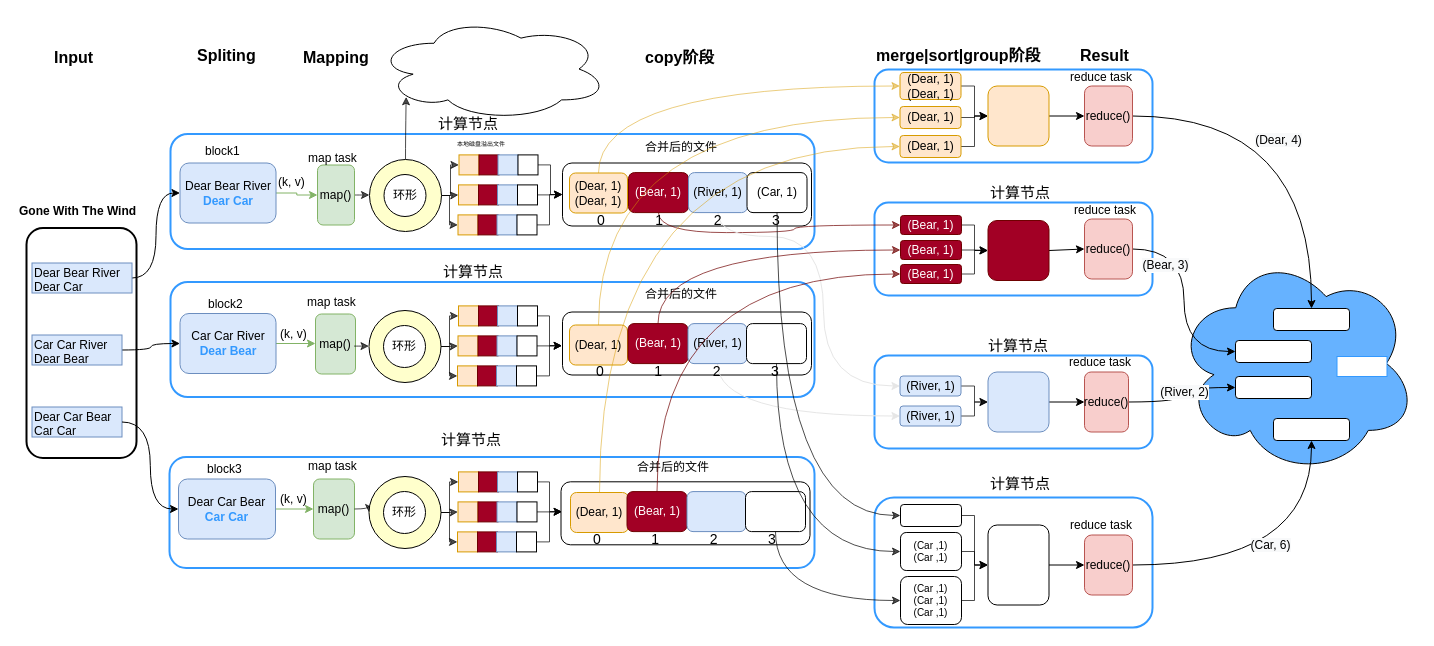
Image size: 1434x646. Some labels were removed from this diagram. The centre of each missing label's shape, as x and y in pixels:
(Bear, 1) (Bear, 1) (Bear, 1): (1018,250)
(Car ,1): (931,515)
(Car ,1) (Car ,1) (Car ,1) (Car ,1) (Car ,1) (Car ,1): (1018,564)
(Car ,1) (Car, 1): (776,343)
(Car, 1) (Car, 1) (Car, 1): (775,511)
(Dear, 1) (Dear, 1) (Dear, 1) (Dear, 1): (1018,115)
(River, 1) (River, 1): (1018,401)
100M 80% 溢出写磁盘文件 分区、排序（combine、压缩） num >= 3: (491,68)
HDFS: (1361,366)
part-r-00000: (1311,319)
part-r-00001: (1273,351)
part-r-00002: (1273,387)
part-r-00003: (1311,429)
